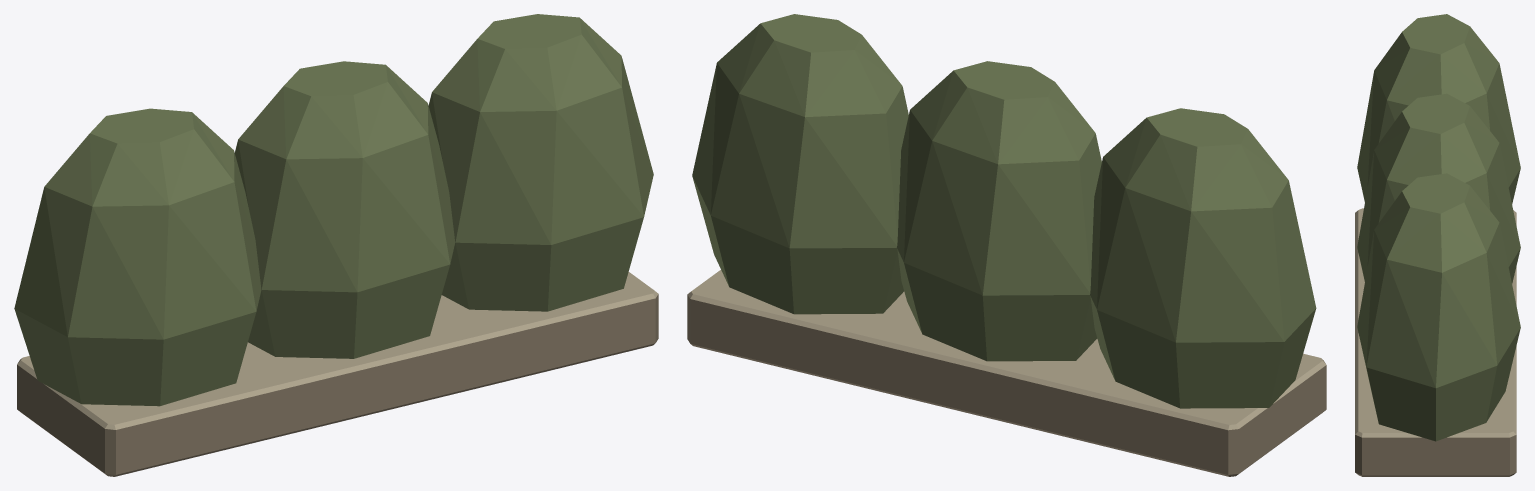
Rendered from hedge-straight.glb.
The picture shows the model from 3 angles, left to right: view 1: azimuth 30°, elevation 25°; view 2: azimuth 150°, elevation 25°; view 3: azimuth 270°, elevation 25°; orthographic projection. The views are drawn at different scales.
Visible parts, largest first — view 1: hedge-straight__body; view 2: hedge-straight__body; view 3: hedge-straight__body.
Part boxes in pixels (box(x1,y1,x2,y2)): hedge-straight__body: box(14, 14, 658, 476); hedge-straight__body: box(687, 14, 1326, 476); hedge-straight__body: box(1355, 14, 1520, 476).
Bounding box in the file's own units: 2.23 × 1.03 × 0.6157.
